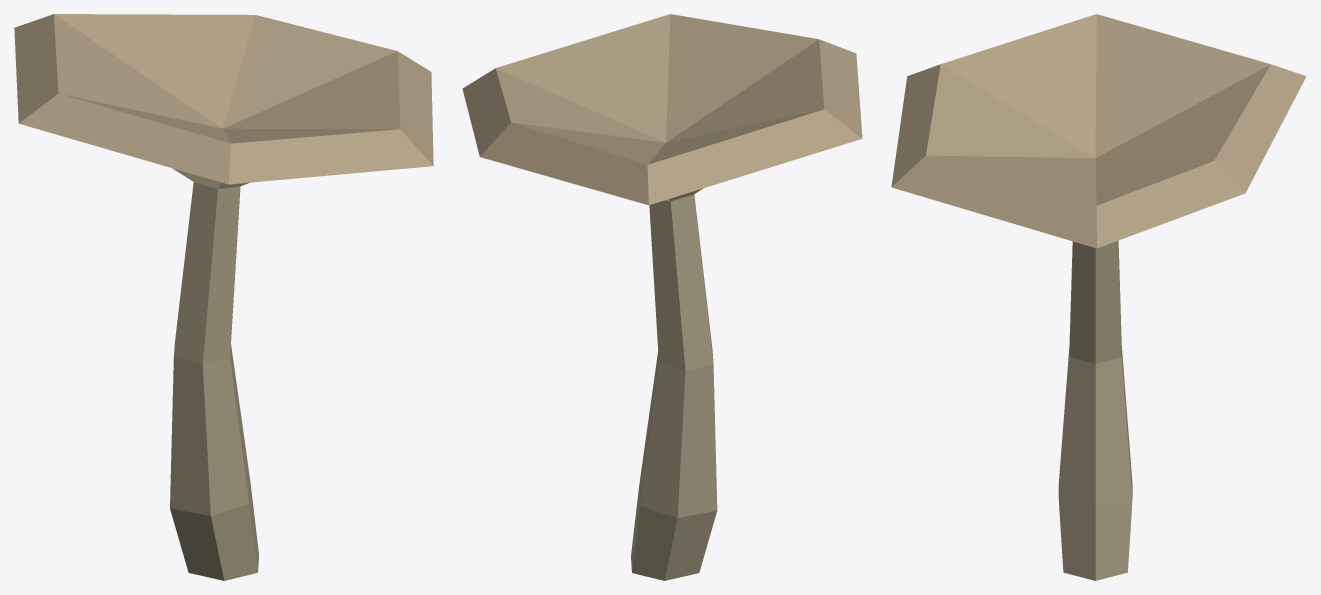
File: Mushroom-E01.fbx
The picture shows the model from 3 angles, left to right: view 1: azimuth 30°, elevation 25°; view 2: azimuth 150°, elevation 25°; view 3: azimuth 270°, elevation 25°; orthographic projection. The views are drawn at different scales.
Parts seen in each view (by area): view 1: Mushroom-E01; view 2: Mushroom-E01; view 3: Mushroom-E01.
Part boxes in pixels (x1,y1,x2,y2): Mushroom-E01: (14, 14, 433, 580); Mushroom-E01: (462, 14, 862, 580); Mushroom-E01: (891, 14, 1306, 580).
Size of the model in its own units: 44.97 by 53.14 by 42.02.
